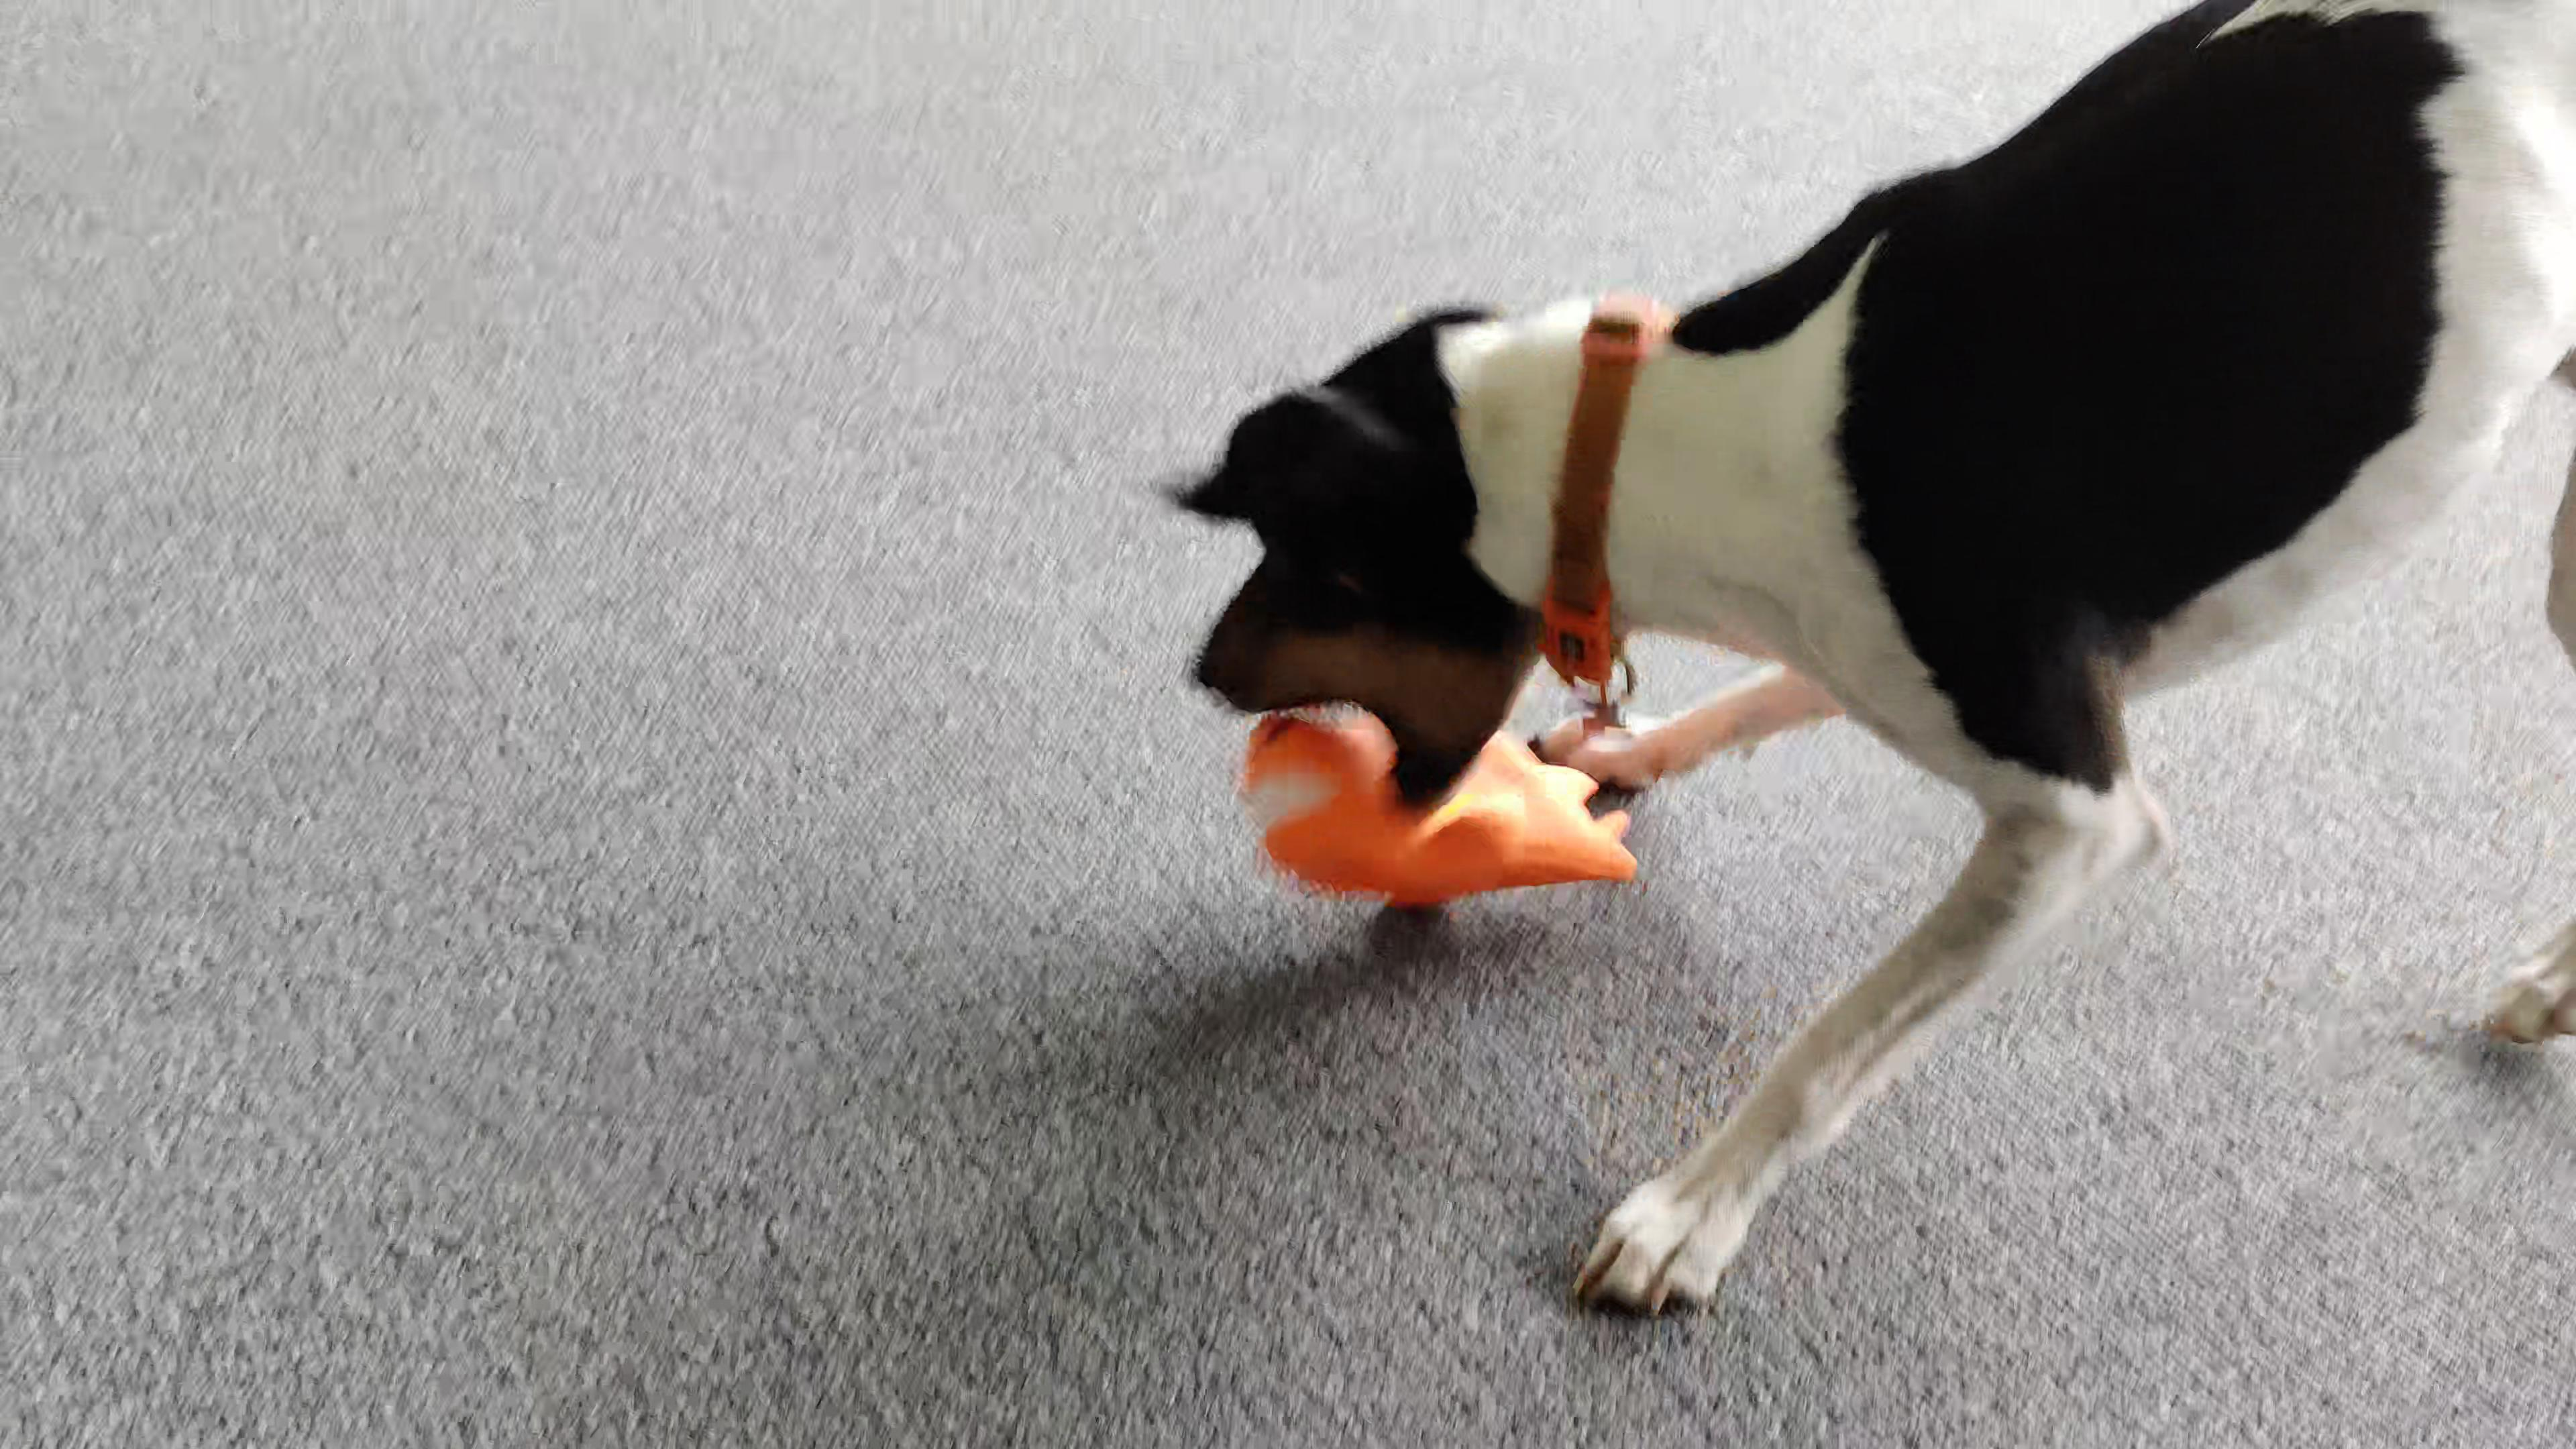Dog: (1139, 0, 2576, 1352)
